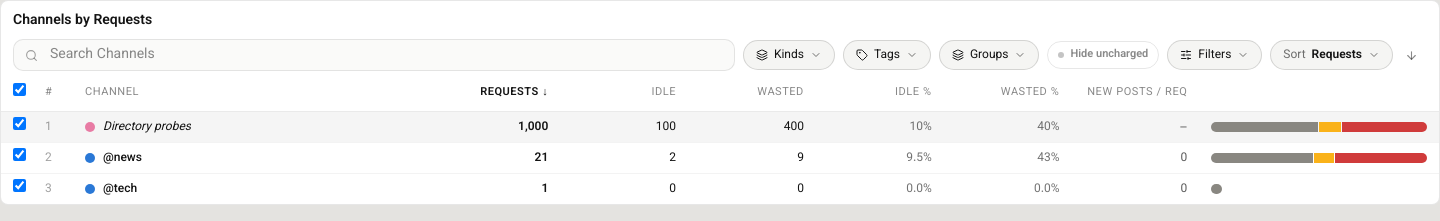
it: ChannelTable › search narrows the rows, and says when nothing matches
Type "@te" into the search field labelled "Search Channels".
click(374, 55); type("@te")  # box [13,39,735,71]
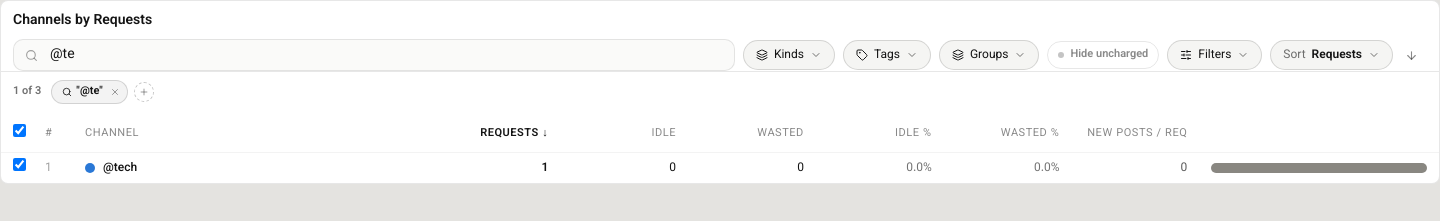
Replace the text in the search field named "Search Channels" with "nothing" at (374, 55), box [13,39,735,71]
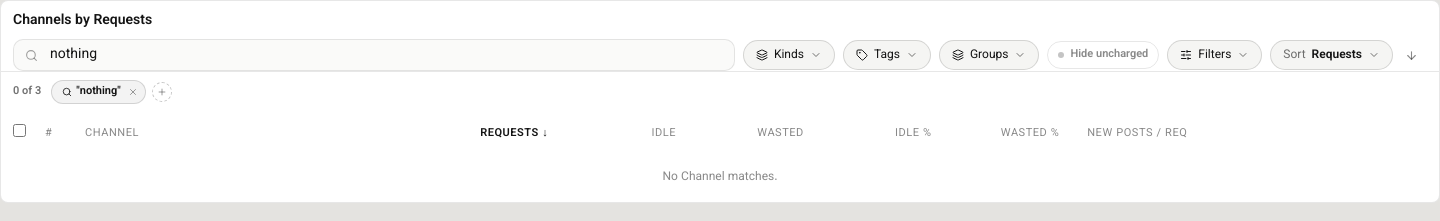
Result: the text "No Channel matches." is shown at [662,168,778,186]
